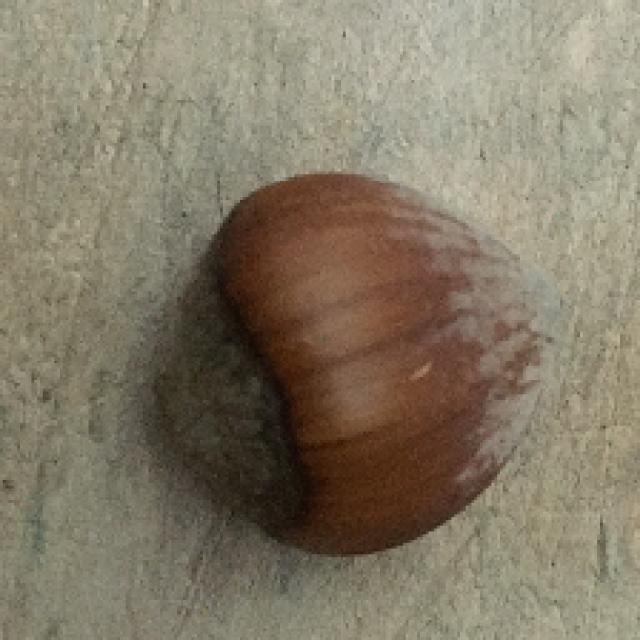damagedHazelnut: (147, 170, 567, 560)
